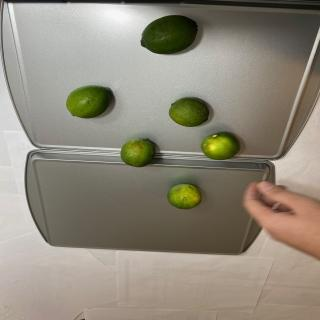Apple: (201, 132, 240, 160), (120, 138, 156, 167), (167, 183, 202, 210)
Lemon: (140, 15, 198, 54), (66, 85, 110, 119), (168, 97, 210, 127)
